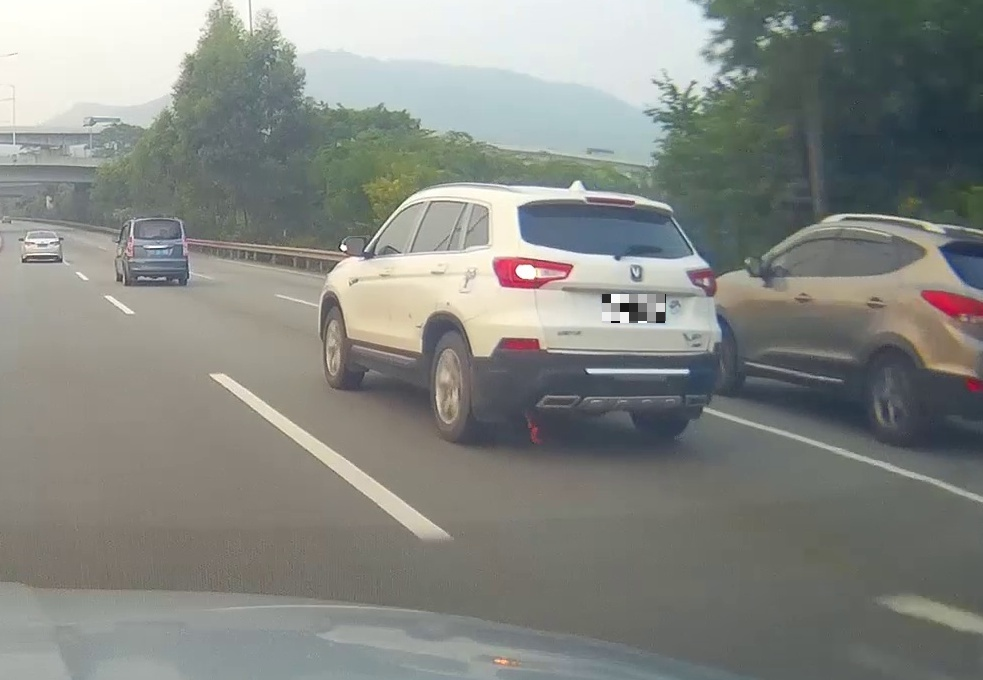L_light: (492, 255, 574, 289), (127, 237, 133, 257), (25, 242, 35, 245)
R_light: (686, 267, 718, 297), (183, 237, 188, 256), (51, 241, 61, 245)
T_light: (585, 196, 635, 207), (152, 236, 164, 239), (40, 233, 46, 234)
day-left: (486, 186, 724, 443)
day-no: (124, 217, 189, 286), (21, 230, 63, 263)
plate_1: (602, 294, 666, 323)
